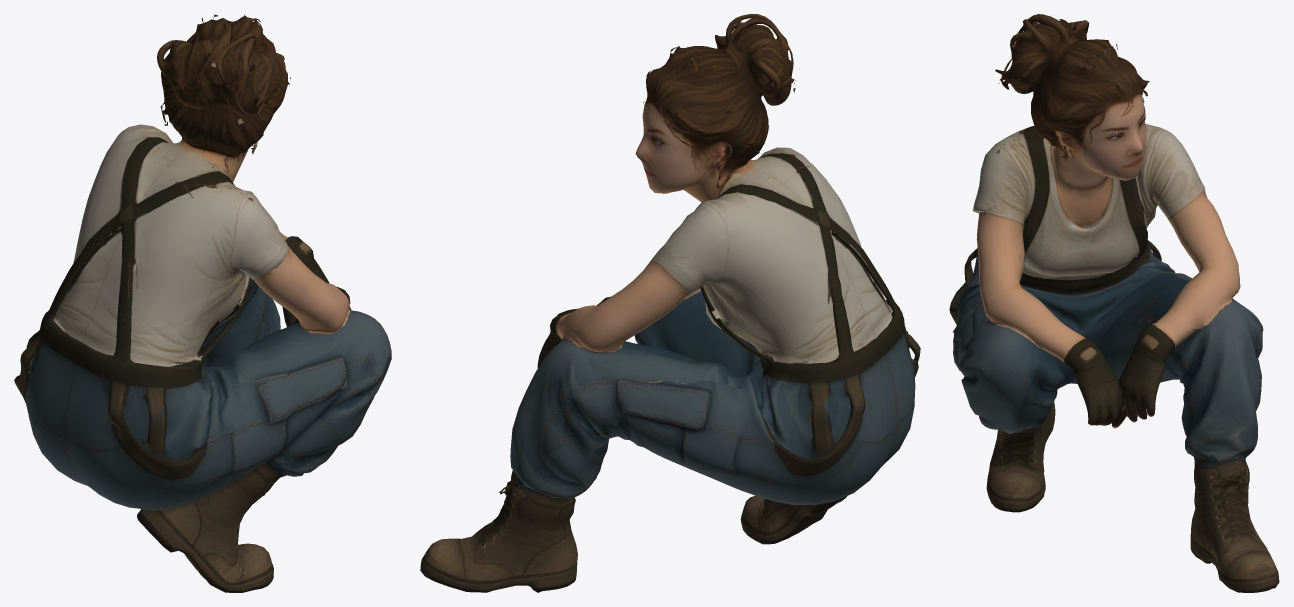
File: female_survivalist_squat.glb
The picture shows the model from 3 angles, left to right: view 1: azimuth 30°, elevation 25°; view 2: azimuth 150°, elevation 25°; view 3: azimuth 270°, elevation 25°; orthographic projection. The views are drawn at different scales.
Visible parts, largest first — view 1: tripo_node_fd6b83b7-8b8e-4939-bbc0-bedf60654a74; view 2: tripo_node_fd6b83b7-8b8e-4939-bbc0-bedf60654a74; view 3: tripo_node_fd6b83b7-8b8e-4939-bbc0-bedf60654a74.
Boxes of the visible parts, x1,y1,x2,y2 form: tripo_node_fd6b83b7-8b8e-4939-bbc0-bedf60654a74: (14,14,391,592); tripo_node_fd6b83b7-8b8e-4939-bbc0-bedf60654a74: (420,14,920,592); tripo_node_fd6b83b7-8b8e-4939-bbc0-bedf60654a74: (949,14,1279,592).
Size of the model in its own units: 0.8756 by 1.18 by 0.724.
1 material, 1 textured.
